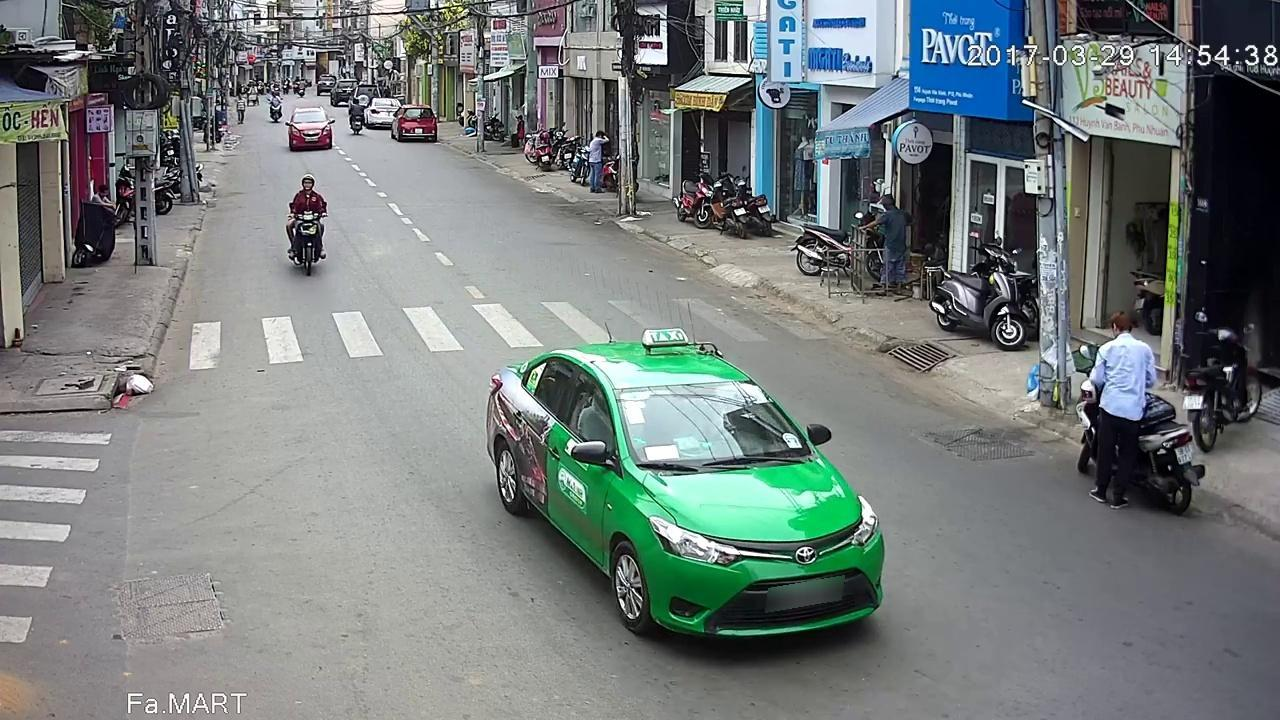xe hoi: (473, 329, 892, 636), (289, 100, 333, 145)
xe may: (1080, 327, 1204, 534), (282, 172, 326, 276)
